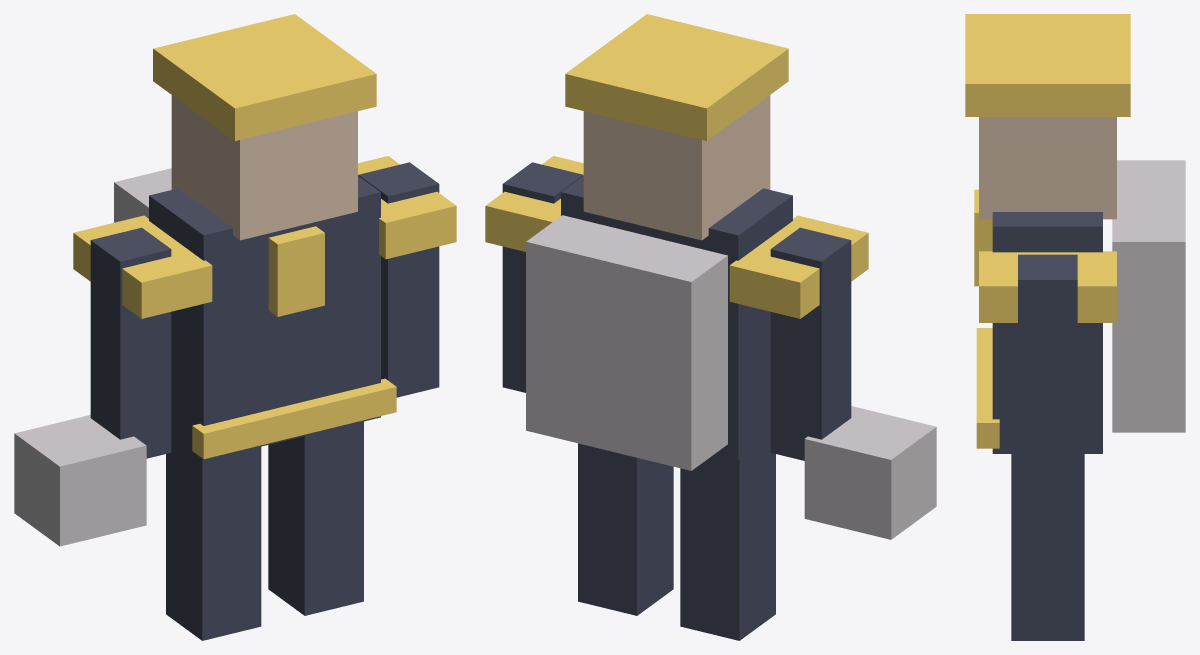
File: 09_orin_ashvein_specialist_of_black_market.glb
3 views of the same model, side by side, from view 1: azimuth 30°, elevation 25°; view 2: azimuth 150°, elevation 25°; view 3: azimuth 270°, elevation 25° (orthographic).
Visible parts, largest first — view 1: Orin Ashvein, Specialist of Black-Market; view 2: Orin Ashvein, Specialist of Black-Market; view 3: Orin Ashvein, Specialist of Black-Market.
Boxes of the visible parts, x1,y1,x2,y2 form: Orin Ashvein, Specialist of Black-Market: [14, 14, 456, 640]; Orin Ashvein, Specialist of Black-Market: [485, 14, 936, 640]; Orin Ashvein, Specialist of Black-Market: [965, 14, 1185, 640].
Bounding box in the file's own units: 1.05 × 1.39 × 0.5045.
